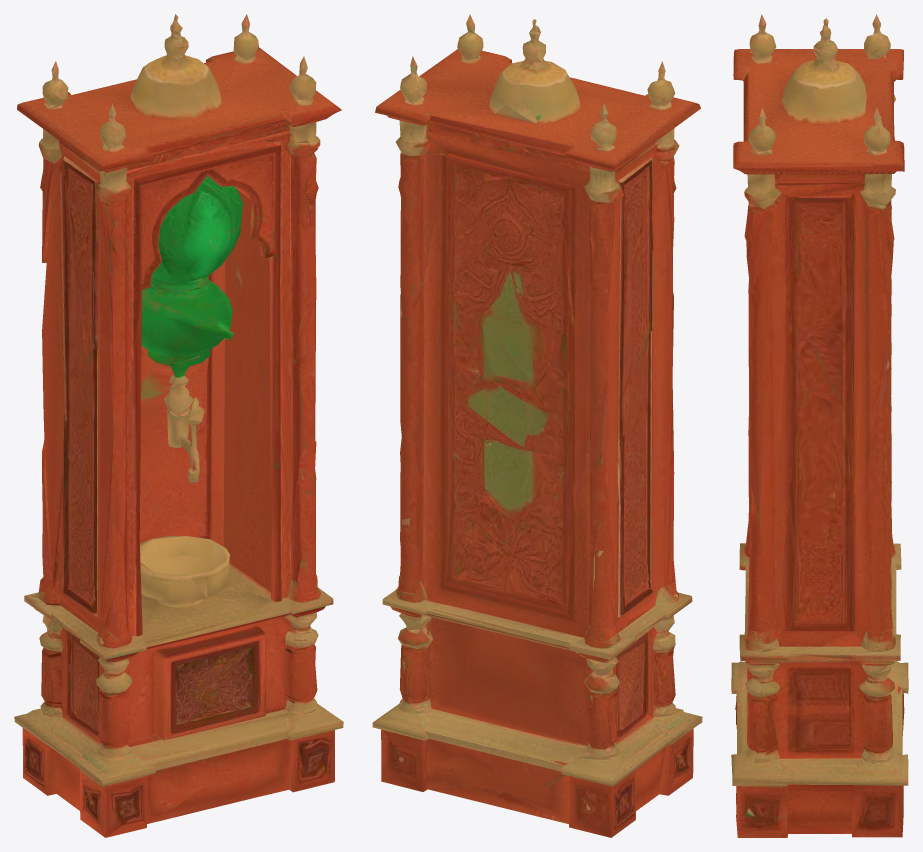
The model's file is la_perk_quickhands.glb.
3 renders of one model, left to right at view 1: azimuth 30°, elevation 25°; view 2: azimuth 150°, elevation 25°; view 3: azimuth 270°, elevation 25°, orthographic.
Parts seen in each view (by area): view 1: la_perk_quickhands; view 2: la_perk_quickhands; view 3: la_perk_quickhands.
Boxes of the visible parts, x1,y1,x2,y2 form: la_perk_quickhands: (14,14,343,837); la_perk_quickhands: (372,14,702,837); la_perk_quickhands: (731,14,908,837).
Bounding box in the file's own units: 0.6962 × 2.1 × 0.4418.
1 material, 1 textured.
